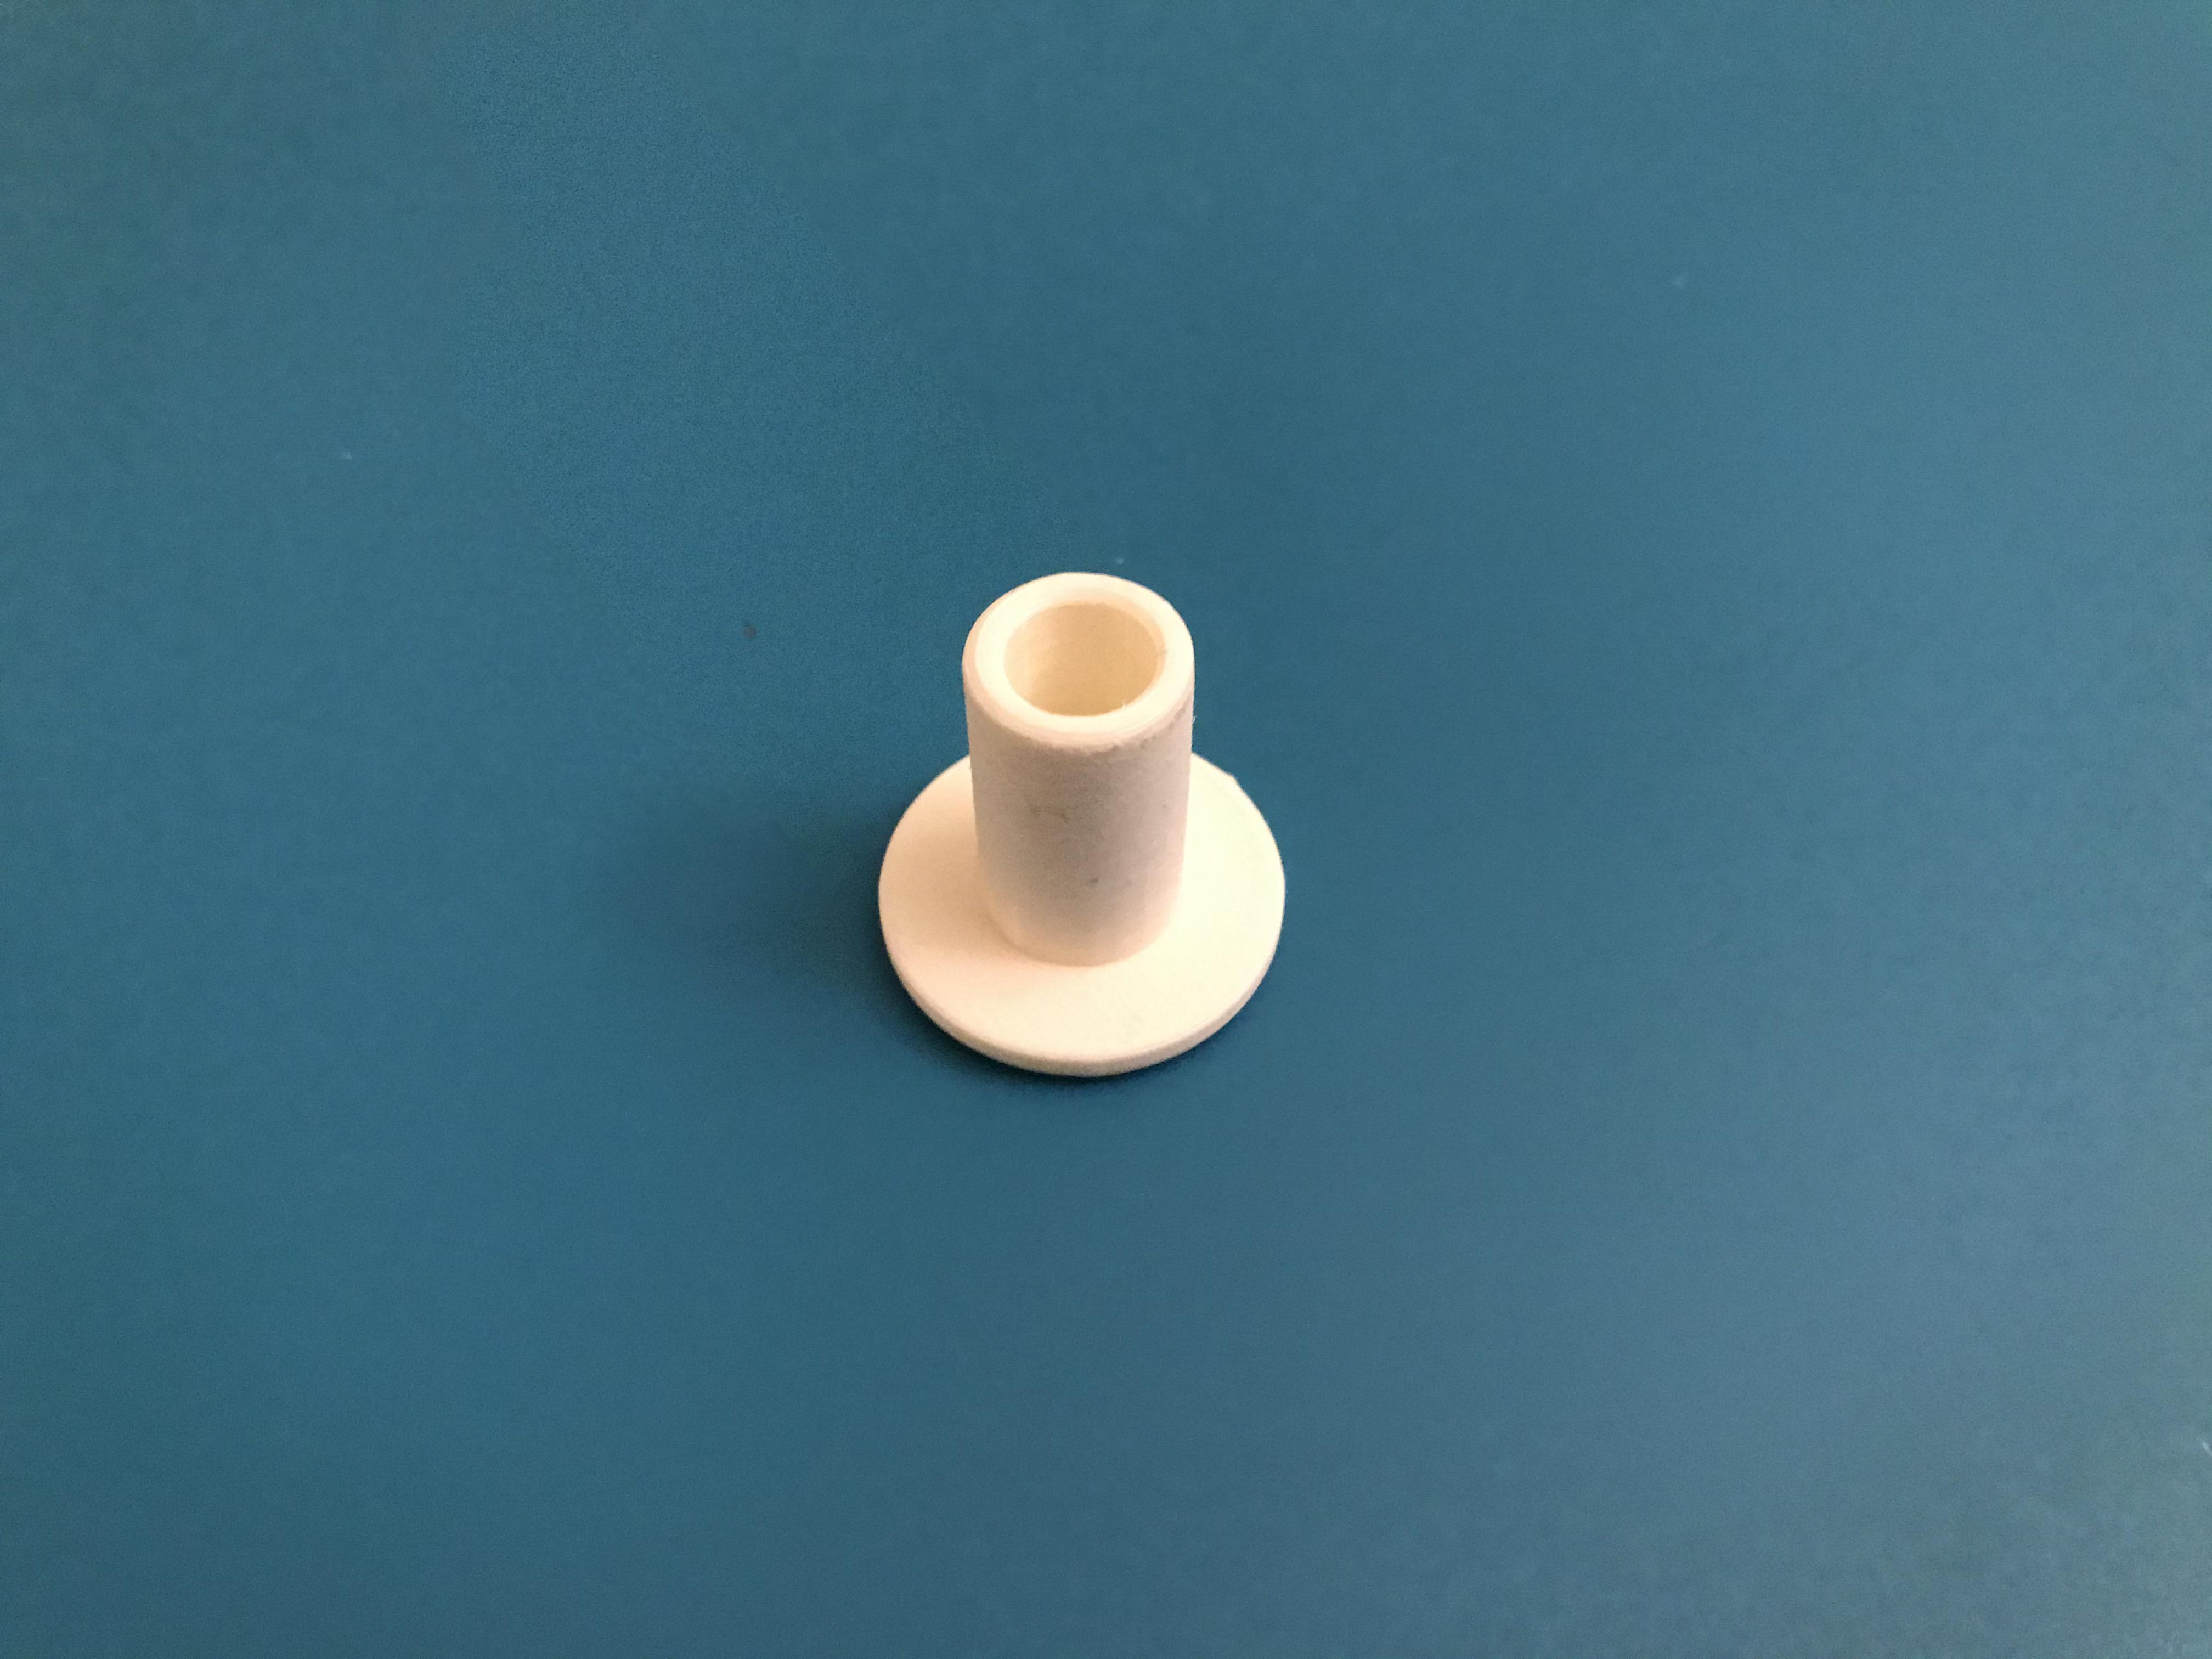White Cone: (860, 566, 1292, 1101)
